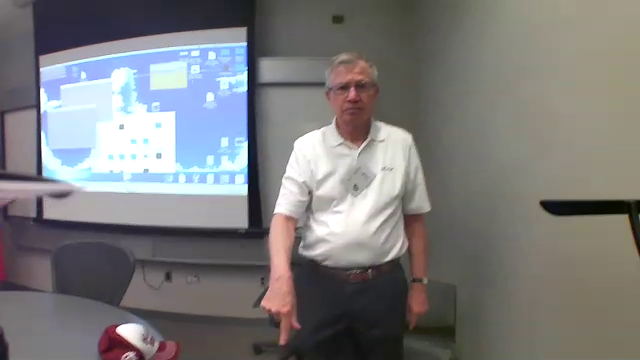down: (253, 269, 311, 351), (402, 285, 438, 334)
